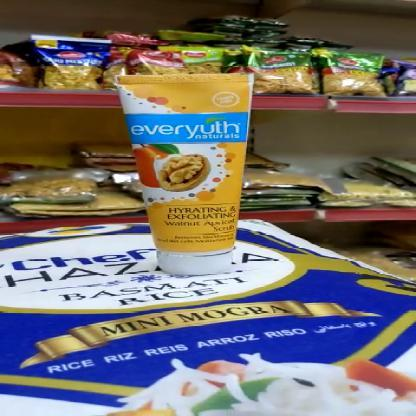EY HYD-EXF WALNT APR SCRUB AYR100G: (117, 74, 253, 274)
